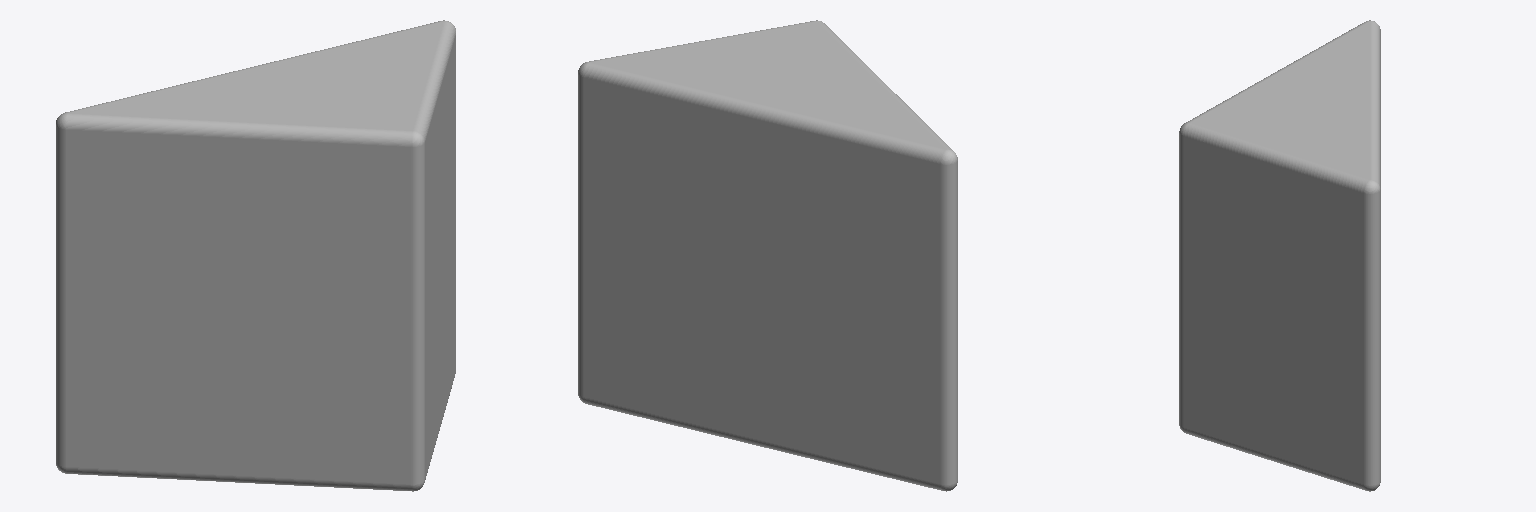
robot.urdf — root:
<robot name="root">
  <link name="link_wedge_short_stout_convex_piece_0">
    <inertial>
      <origin xyz="0 0 0" rpy="0 0 0"/>
      <mass value="2.10E-01"/>
      <inertia ixx="1.76E-04" ixy="9.48E-06" ixz="-2.24E-14" iyy="2.52E-04" iyz="6.96E-14" izz="1.44E-04"/>
    </inertial>
    <visual>
      <origin xyz="0 0 0" rpy="0 0 0"/>
      <geometry>
        <mesh filename="wedge_short_stout_convex_piece_0.obj" scale="1.0000E+00 1.0000E+00 1.0000E+00"/>
      </geometry>
      <material name="">
        <color rgba="7.50E-01 7.50E-01 7.50E-01 1"/>
      </material>
    </visual>
    <collision>
      <origin xyz="0 0 0" rpy="0 0 0"/>
      <geometry>
        <mesh filename="wedge_short_stout_convex_piece_0.obj" scale="1.0000E+00 1.0000E+00 1.0000E+00"/>
      </geometry>
    </collision>
  </link>
</robot>

--- Facts derived from the render (not from the file) ---
3 views of the same robot in one strip: view 1: azimuth 30°, elevation 25°; view 2: azimuth 150°, elevation 25°; view 3: azimuth 270°, elevation 25° (orthographic).
Model root with 1 links and 0 joints (none), rooted at link_wedge_short_stout_convex_piece_0, posed every joint at zero.
Links seen in each view (by area): view 1: link_wedge_short_stout_convex_piece_0; view 2: link_wedge_short_stout_convex_piece_0; view 3: link_wedge_short_stout_convex_piece_0.
Boxes of the visible links, bbox=[...] form: link_wedge_short_stout_convex_piece_0: bbox=[56, 20, 455, 491]; link_wedge_short_stout_convex_piece_0: bbox=[578, 20, 957, 491]; link_wedge_short_stout_convex_piece_0: bbox=[1179, 20, 1380, 491].
Size in the robot's own frame: 0.1044 by 0.053 by 0.0903 metres.
Meshes: 1 distinct files referenced, 1 mesh visuals loaded (1 OBJ).
